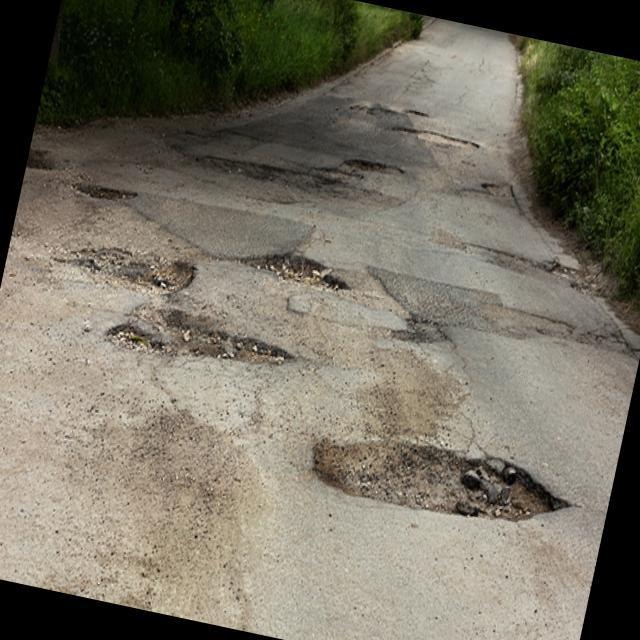Pothole: (311, 412, 589, 564), (110, 290, 290, 395), (75, 233, 204, 304), (234, 234, 354, 304), (204, 148, 298, 200), (71, 168, 142, 220), (340, 148, 407, 189)
